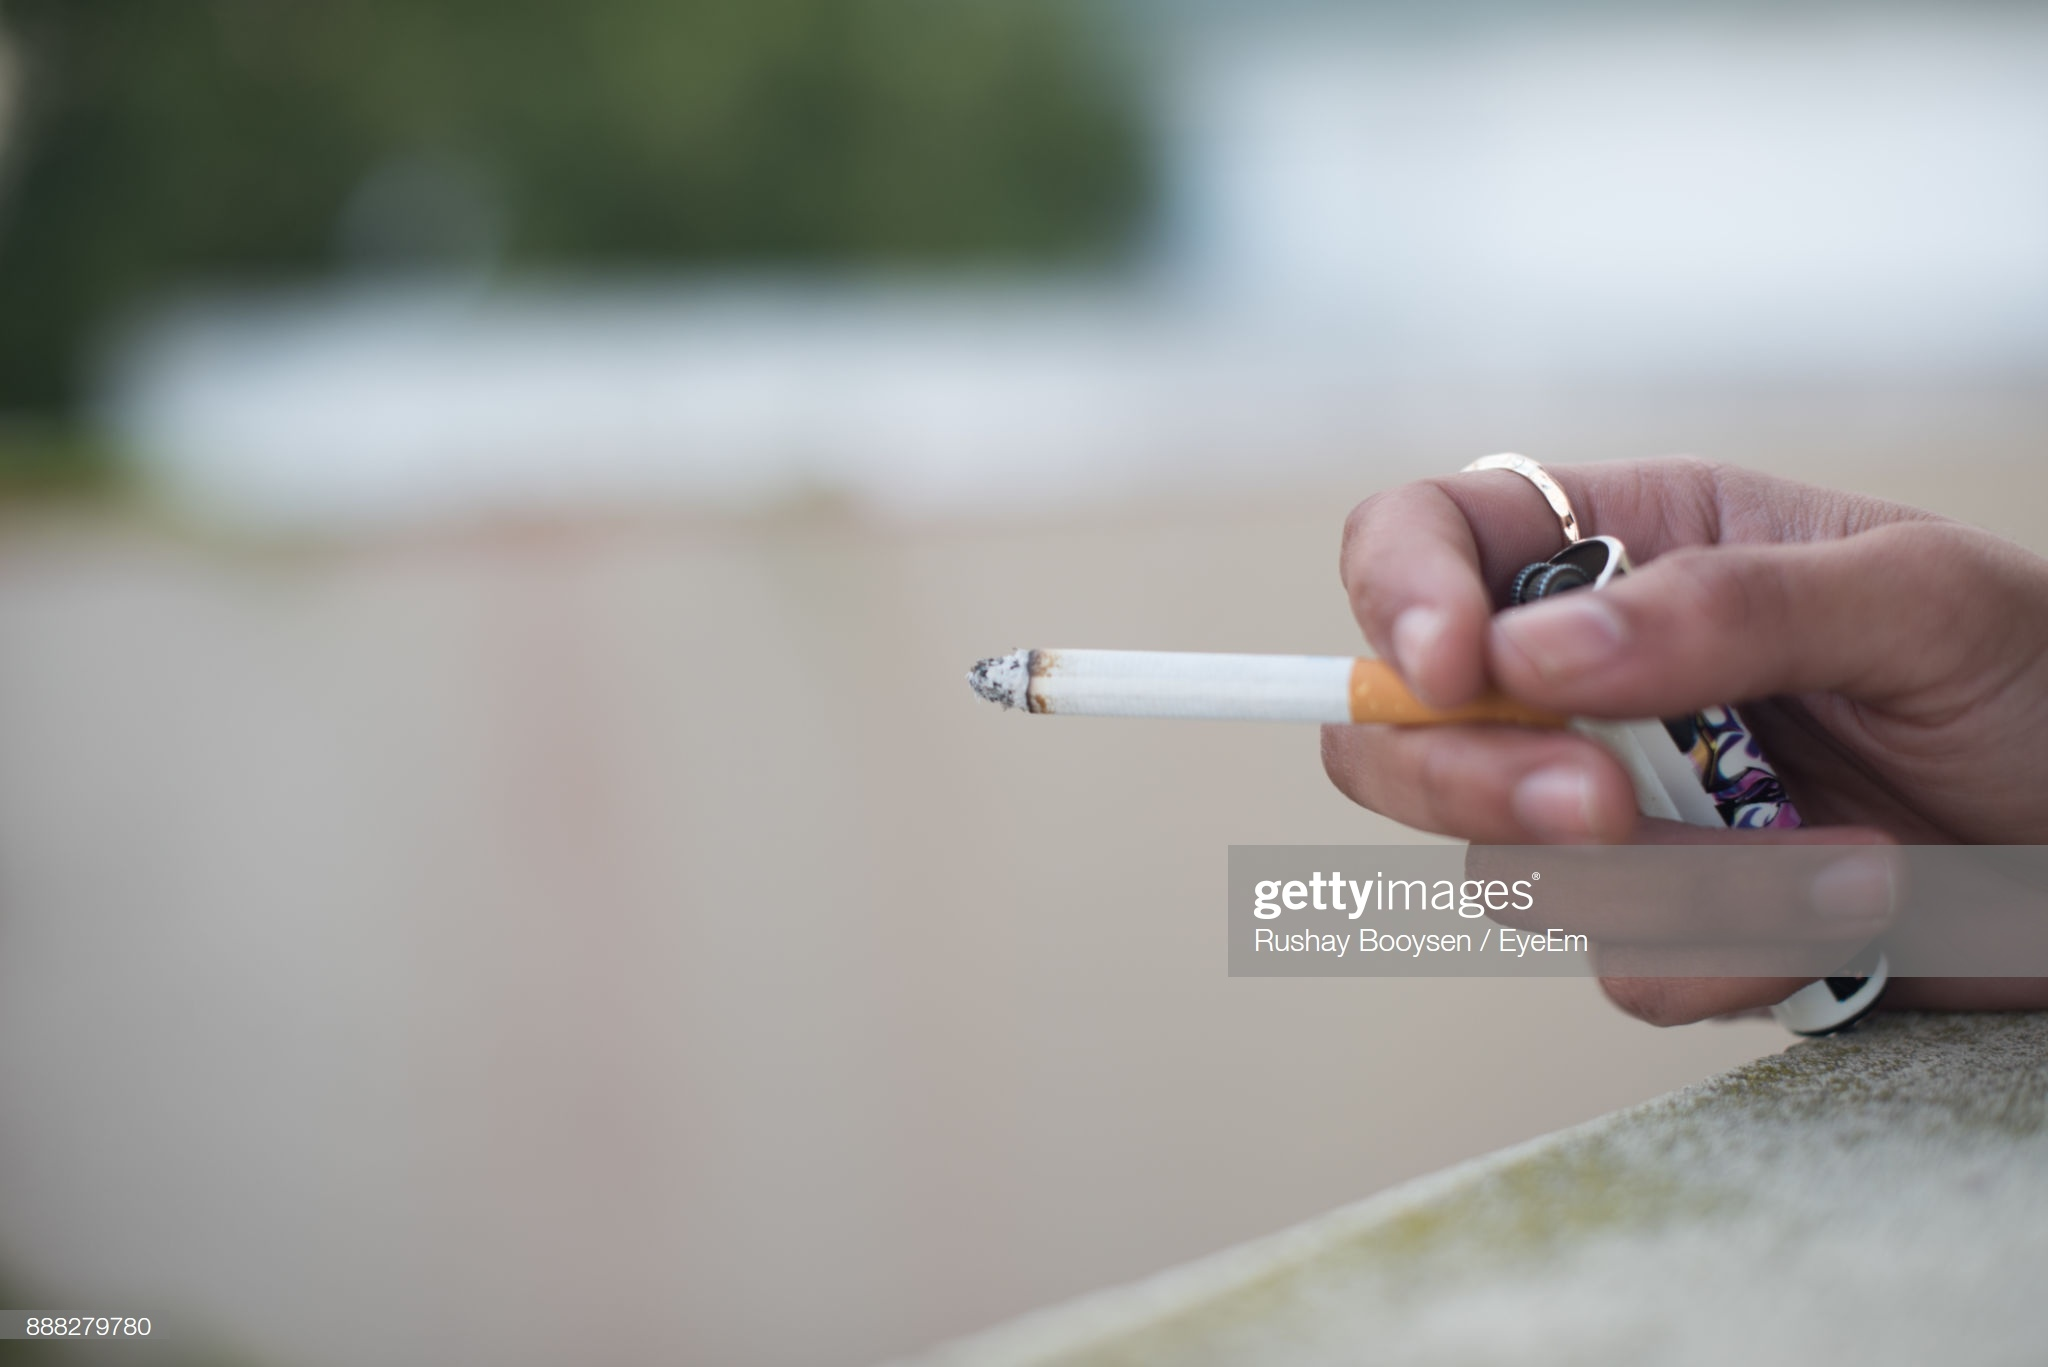sigaretta: (967, 639, 1568, 738)
